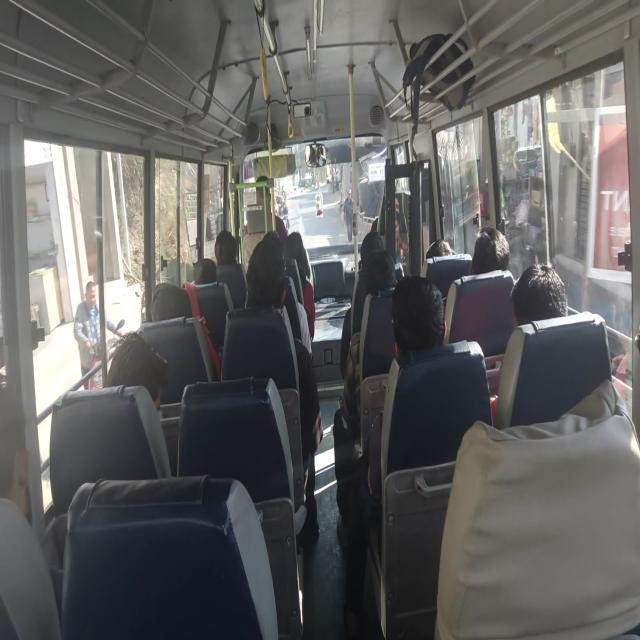person: (102, 312, 173, 414), (0, 377, 46, 530), (389, 266, 455, 352), (508, 262, 570, 335), (471, 218, 518, 284), (247, 246, 291, 314), (144, 278, 193, 328), (358, 252, 401, 290), (283, 221, 315, 262), (415, 236, 460, 265), (213, 221, 240, 266), (192, 250, 221, 287), (382, 178, 411, 212), (252, 168, 276, 208), (358, 227, 390, 256), (261, 224, 287, 254)
